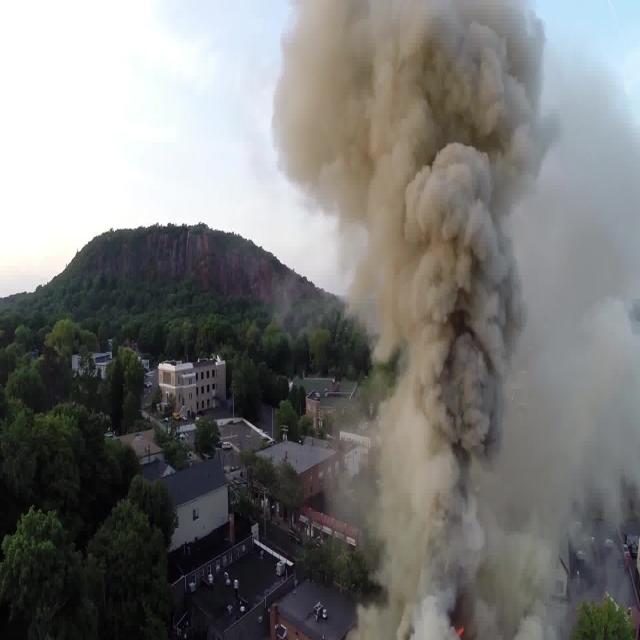smoke: (400, 208, 534, 622), (303, 14, 526, 194)
